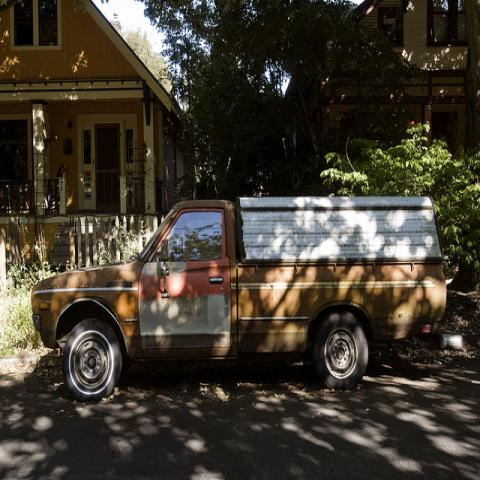truck: (33, 195, 449, 403)
